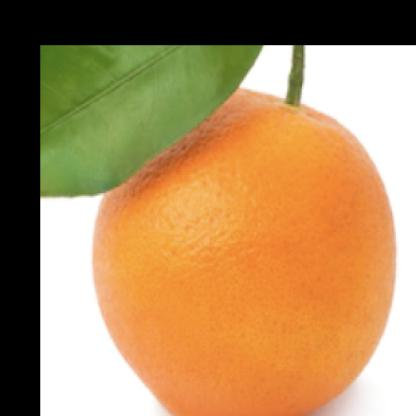fresh: (96, 81, 396, 416)
